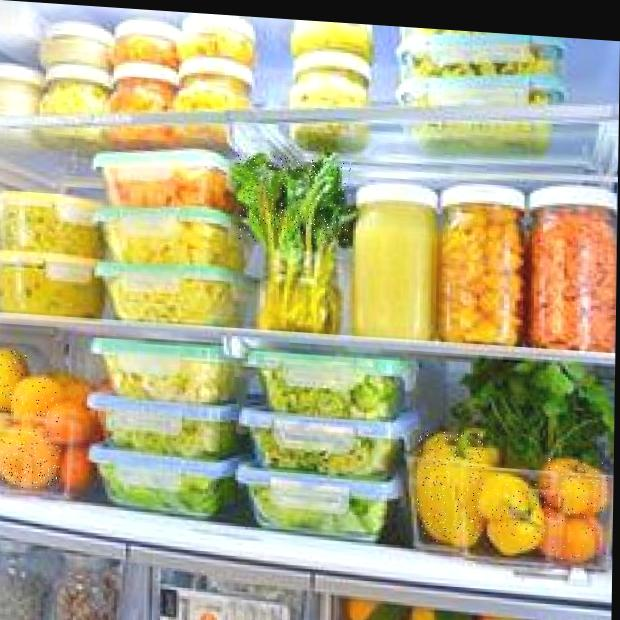orange: (0, 426, 61, 490), (14, 376, 60, 424), (0, 350, 27, 413)
parsley: (236, 154, 351, 248)
yellow bell pepper: (416, 430, 484, 545), (484, 473, 546, 552), (545, 457, 608, 515), (544, 509, 607, 565)
